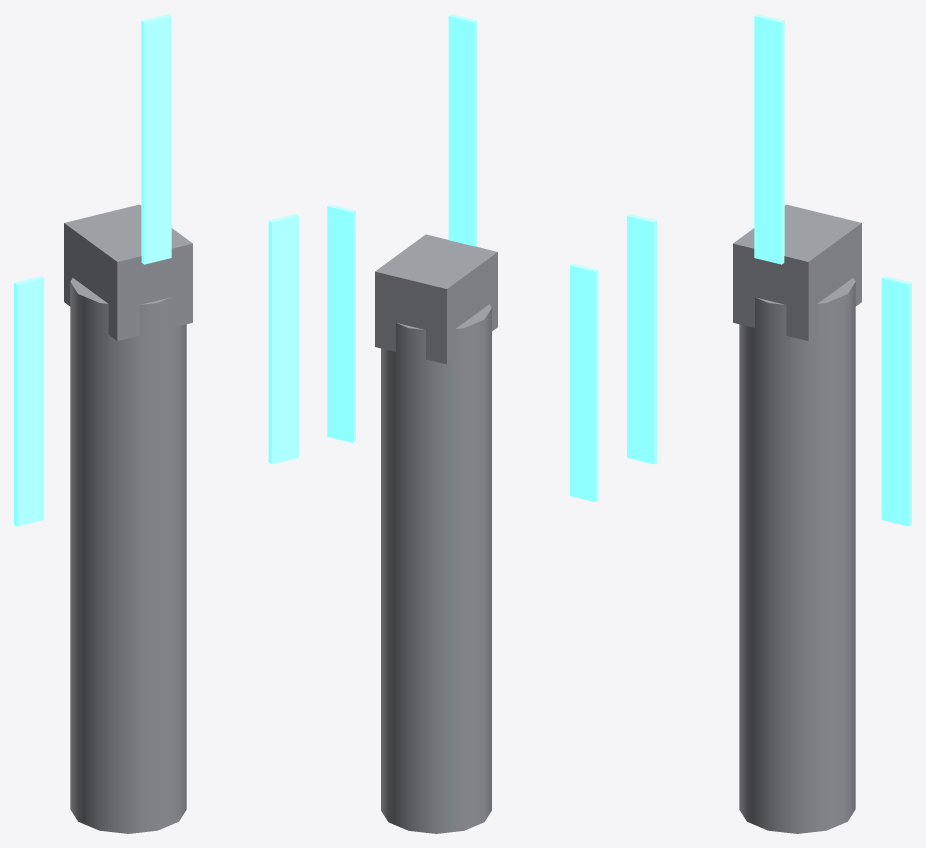
File: vayu_windmill.glb
The picture shows the model from 3 angles, left to right: view 1: azimuth 30°, elevation 25°; view 2: azimuth 150°, elevation 25°; view 3: azimuth 330°, elevation 25°; orthographic projection. The views are drawn at different scales.
Visible parts, largest first — view 1: RootNode; view 2: RootNode; view 3: RootNode.
Boxes of the visible parts, bbox=[...] form: RootNode: bbox=[14, 14, 298, 833]; RootNode: bbox=[327, 14, 598, 833]; RootNode: bbox=[627, 14, 911, 833].
Bounding box in the file's own units: 6.71 × 18.45 × 2.41.
